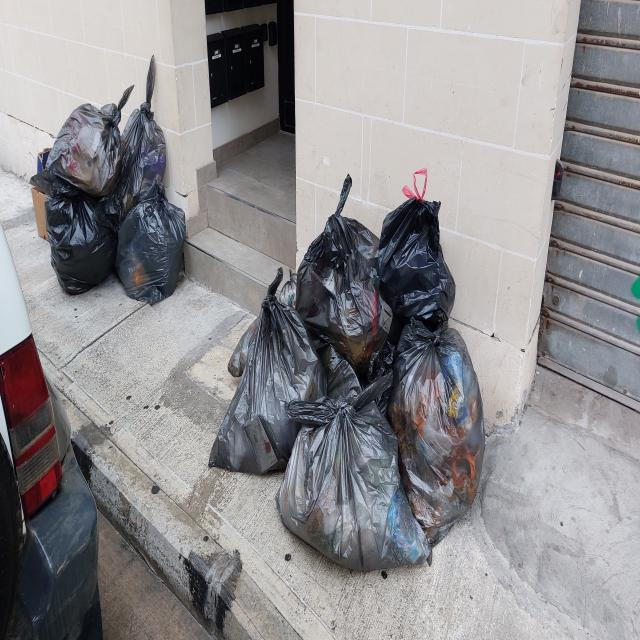Mixed Waste -Black Bag-: (279, 391, 431, 573), (396, 323, 488, 539), (222, 295, 328, 475), (299, 204, 396, 398), (379, 202, 459, 333), (116, 197, 190, 306), (47, 189, 120, 299), (49, 105, 126, 199), (121, 107, 170, 200)
